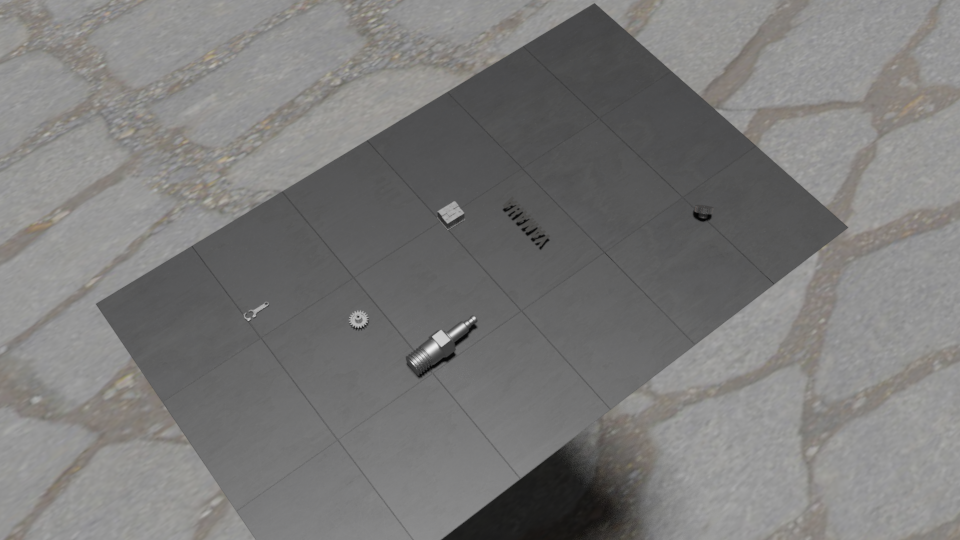yamaha_letters: (502, 195, 550, 246)
